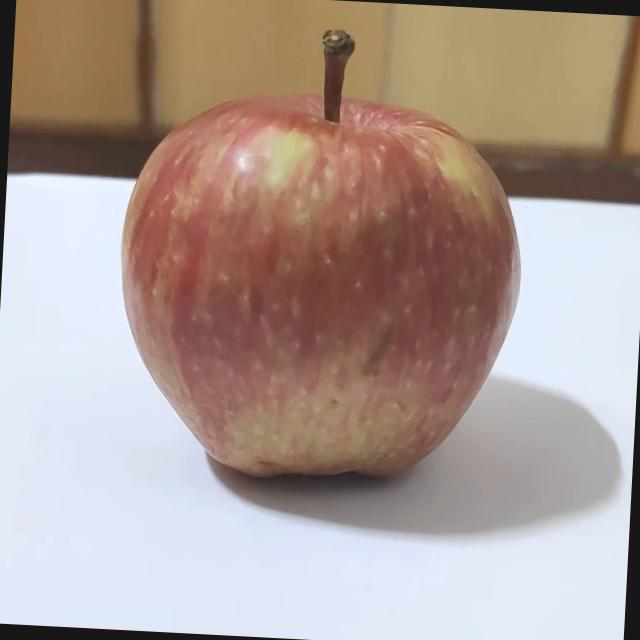apple: (109, 20, 531, 500)
